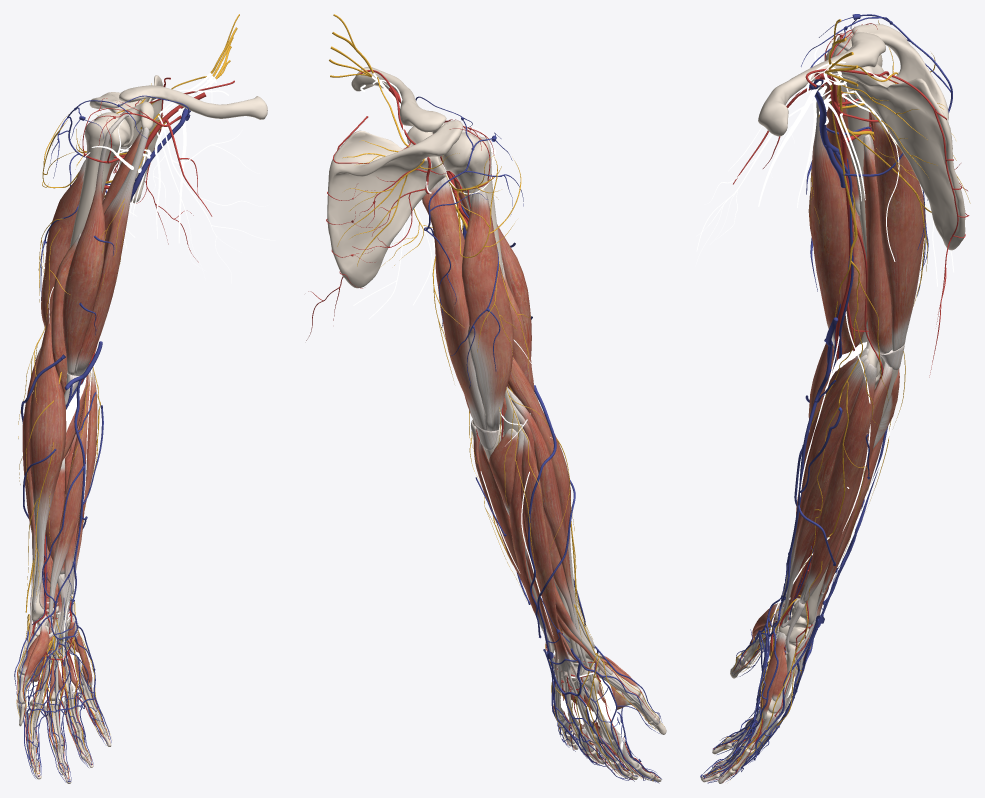
File: arm-upper-limb-right.glb
The picture shows the model from 3 angles, left to right: view 1: azimuth 30°, elevation 25°; view 2: azimuth 150°, elevation 25°; view 3: azimuth 270°, elevation 25°; orthographic projection. The views are drawn at different scales.
Visible parts, largest first — view 1: part_38_67, part_121_264, part_203_518, part_98_234, part_110_246, part_118_261, part_109_245, part_213_536, part_46_81, part_200_515, part_37_66, part_161_399 (+13 smaller); view 2: part_200_515, part_118_261, part_122_265, part_88_224, part_110_246, part_213_536, part_86_222, part_38_67, part_46_81, part_106_242, part_121_264, part_21_21 (+10 smaller); view 3: part_200_515, part_122_265, part_203_518, part_107_243, part_129_272, part_46_81, part_213_536, part_161_399, part_110_246, part_109_245, part_126_269, part_37_66 (+20 smaller).
Part boxes in pixels (x1,y1,x2,y2): part_38_67: [29, 311, 66, 612]; part_121_264: [62, 114, 128, 375]; part_203_518: [73, 127, 149, 375]; part_98_234: [47, 371, 92, 642]; part_110_246: [69, 112, 130, 248]; part_118_261: [41, 158, 86, 329]; part_109_245: [32, 409, 100, 752]; part_213_536: [21, 95, 189, 603]; part_46_81: [119, 85, 267, 119]; part_200_515: [89, 75, 163, 202]; part_37_66: [51, 233, 81, 394]; part_161_399: [58, 368, 97, 641]; part_200_515: [327, 120, 462, 288]; part_118_261: [462, 187, 513, 431]; part_122_265: [422, 176, 487, 430]; part_88_224: [521, 431, 637, 772]; part_110_246: [441, 132, 522, 438]; part_213_536: [415, 96, 585, 652]; part_86_222: [508, 388, 594, 687]; part_38_67: [508, 357, 594, 648]; part_46_81: [351, 67, 446, 132]; part_106_242: [509, 429, 545, 629]; part_121_264: [462, 130, 531, 356]; part_21_21: [489, 428, 518, 515]; part_200_515: [833, 24, 965, 250]; part_122_265: [870, 109, 925, 351]; part_203_518: [811, 84, 849, 344]; part_107_243: [799, 363, 876, 602]; part_129_272: [863, 134, 892, 354]; part_46_81: [758, 32, 885, 136]; part_213_536: [784, 14, 952, 615]; part_161_399: [775, 359, 869, 633]; part_110_246: [825, 31, 882, 376]; part_109_245: [735, 383, 861, 761]; part_126_269: [801, 106, 888, 603]; part_37_66: [841, 204, 867, 354].
Size of the model in its own units: 0.3248 by 0.7925 by 0.2181.
Materials: 46 (4 with a texture image).
